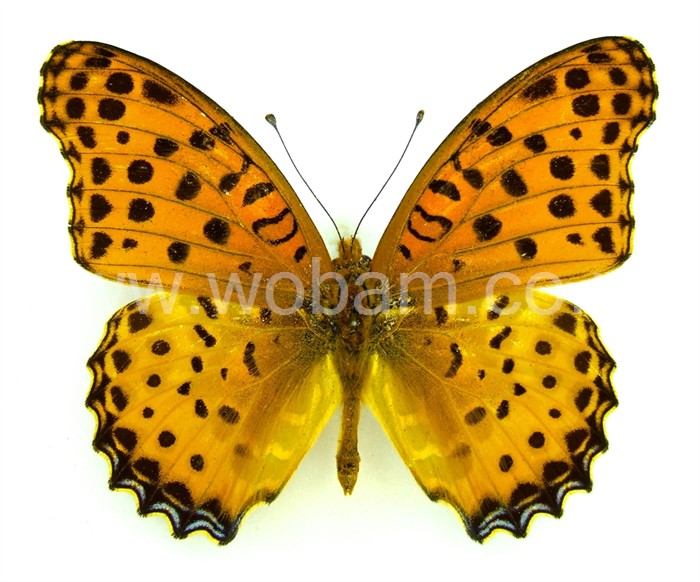Argyreus hyperbius: (34, 31, 657, 548)
butterfly: (36, 33, 659, 550)
